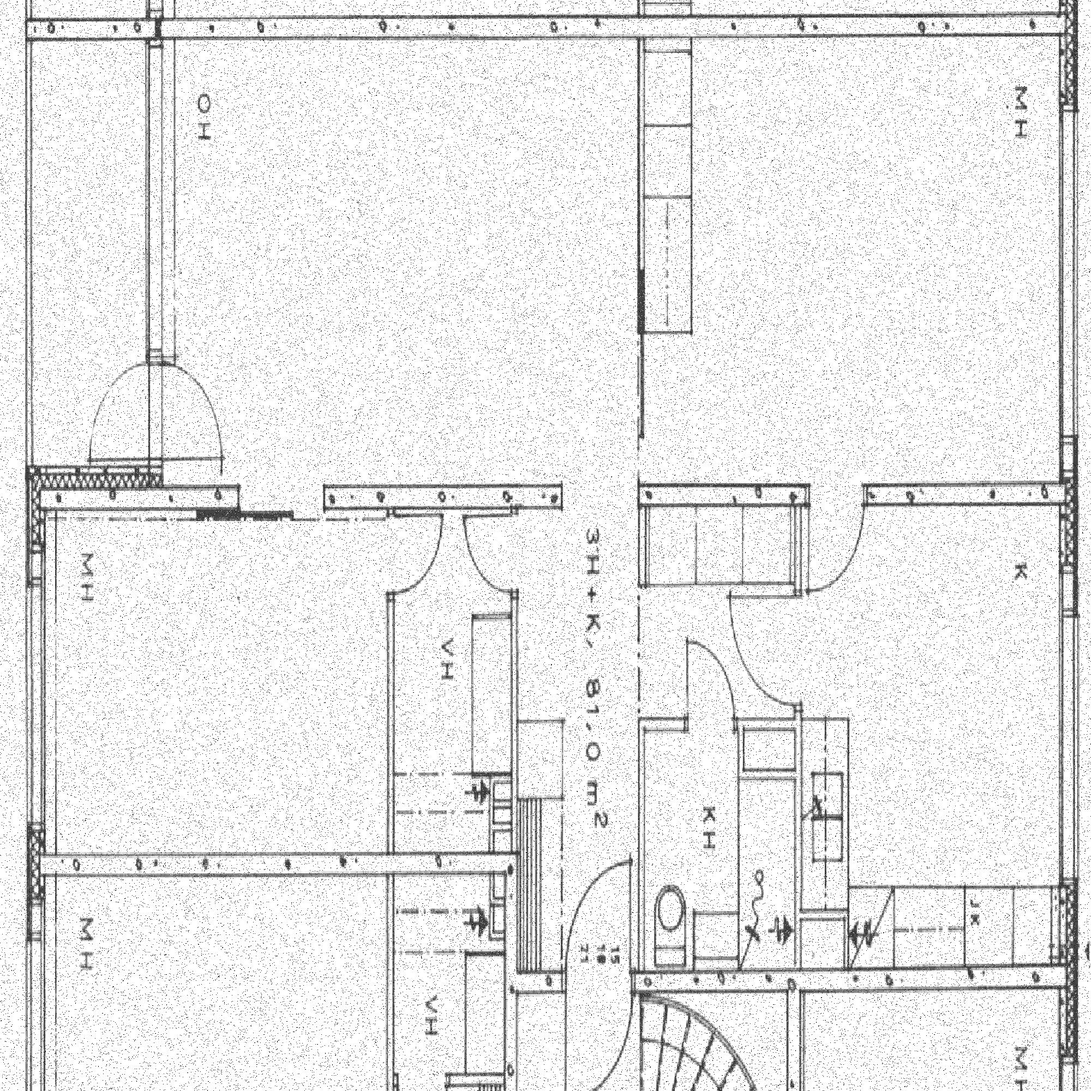wall: (146, 17, 1078, 37), (1060, 17, 1078, 991), (503, 970, 1078, 991), (26, 853, 516, 874), (162, 487, 562, 511), (146, 18, 162, 511), (27, 467, 46, 875), (795, 482, 1077, 505), (26, 467, 162, 511), (639, 482, 795, 505), (638, 18, 645, 504), (737, 731, 801, 778), (26, 17, 146, 41), (801, 910, 848, 969), (387, 487, 394, 875), (509, 487, 516, 853), (503, 854, 516, 991), (638, 720, 644, 992), (638, 720, 801, 730), (795, 730, 801, 992), (490, 774, 509, 853), (795, 482, 801, 730), (638, 482, 645, 586)
